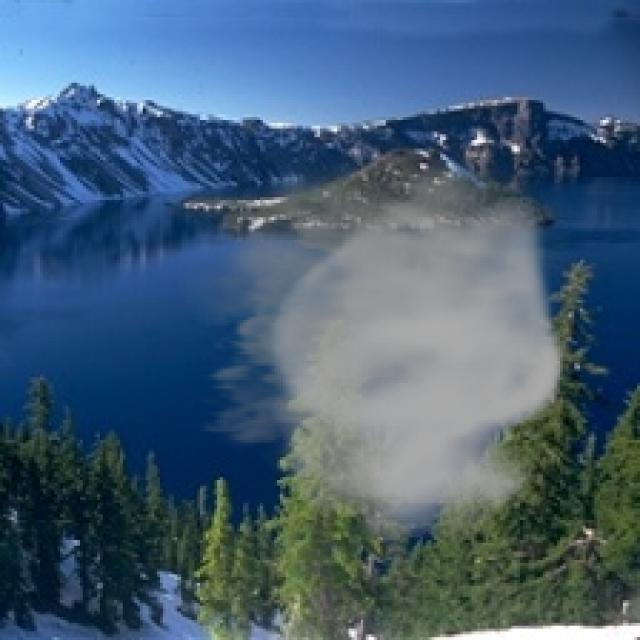Smoke: (163, 143, 572, 546)
